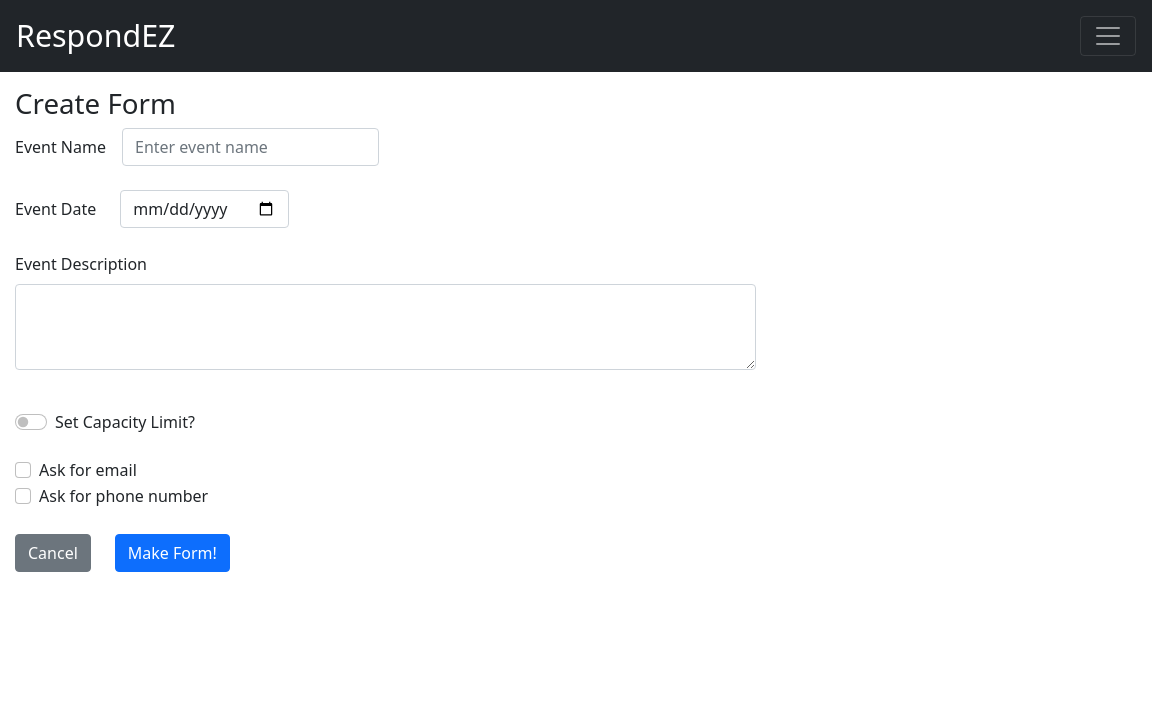
Scenario: Test App › shows the capacity and waitlist checkbox when capacity limit is clicked
Click the checkbox with test id "capacityCy" at (31, 422), box 15,414 -> 47,430
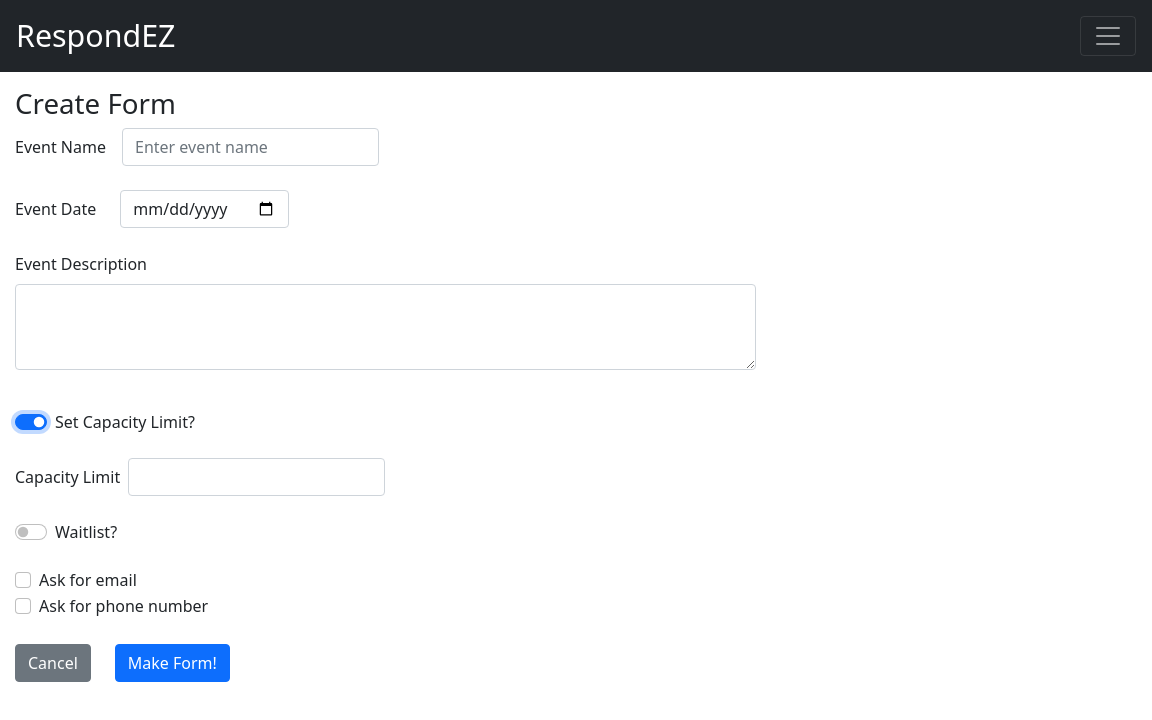
Expected: the element with test id "waitlistDivCy" is shown, 15,458 -> 385,543
